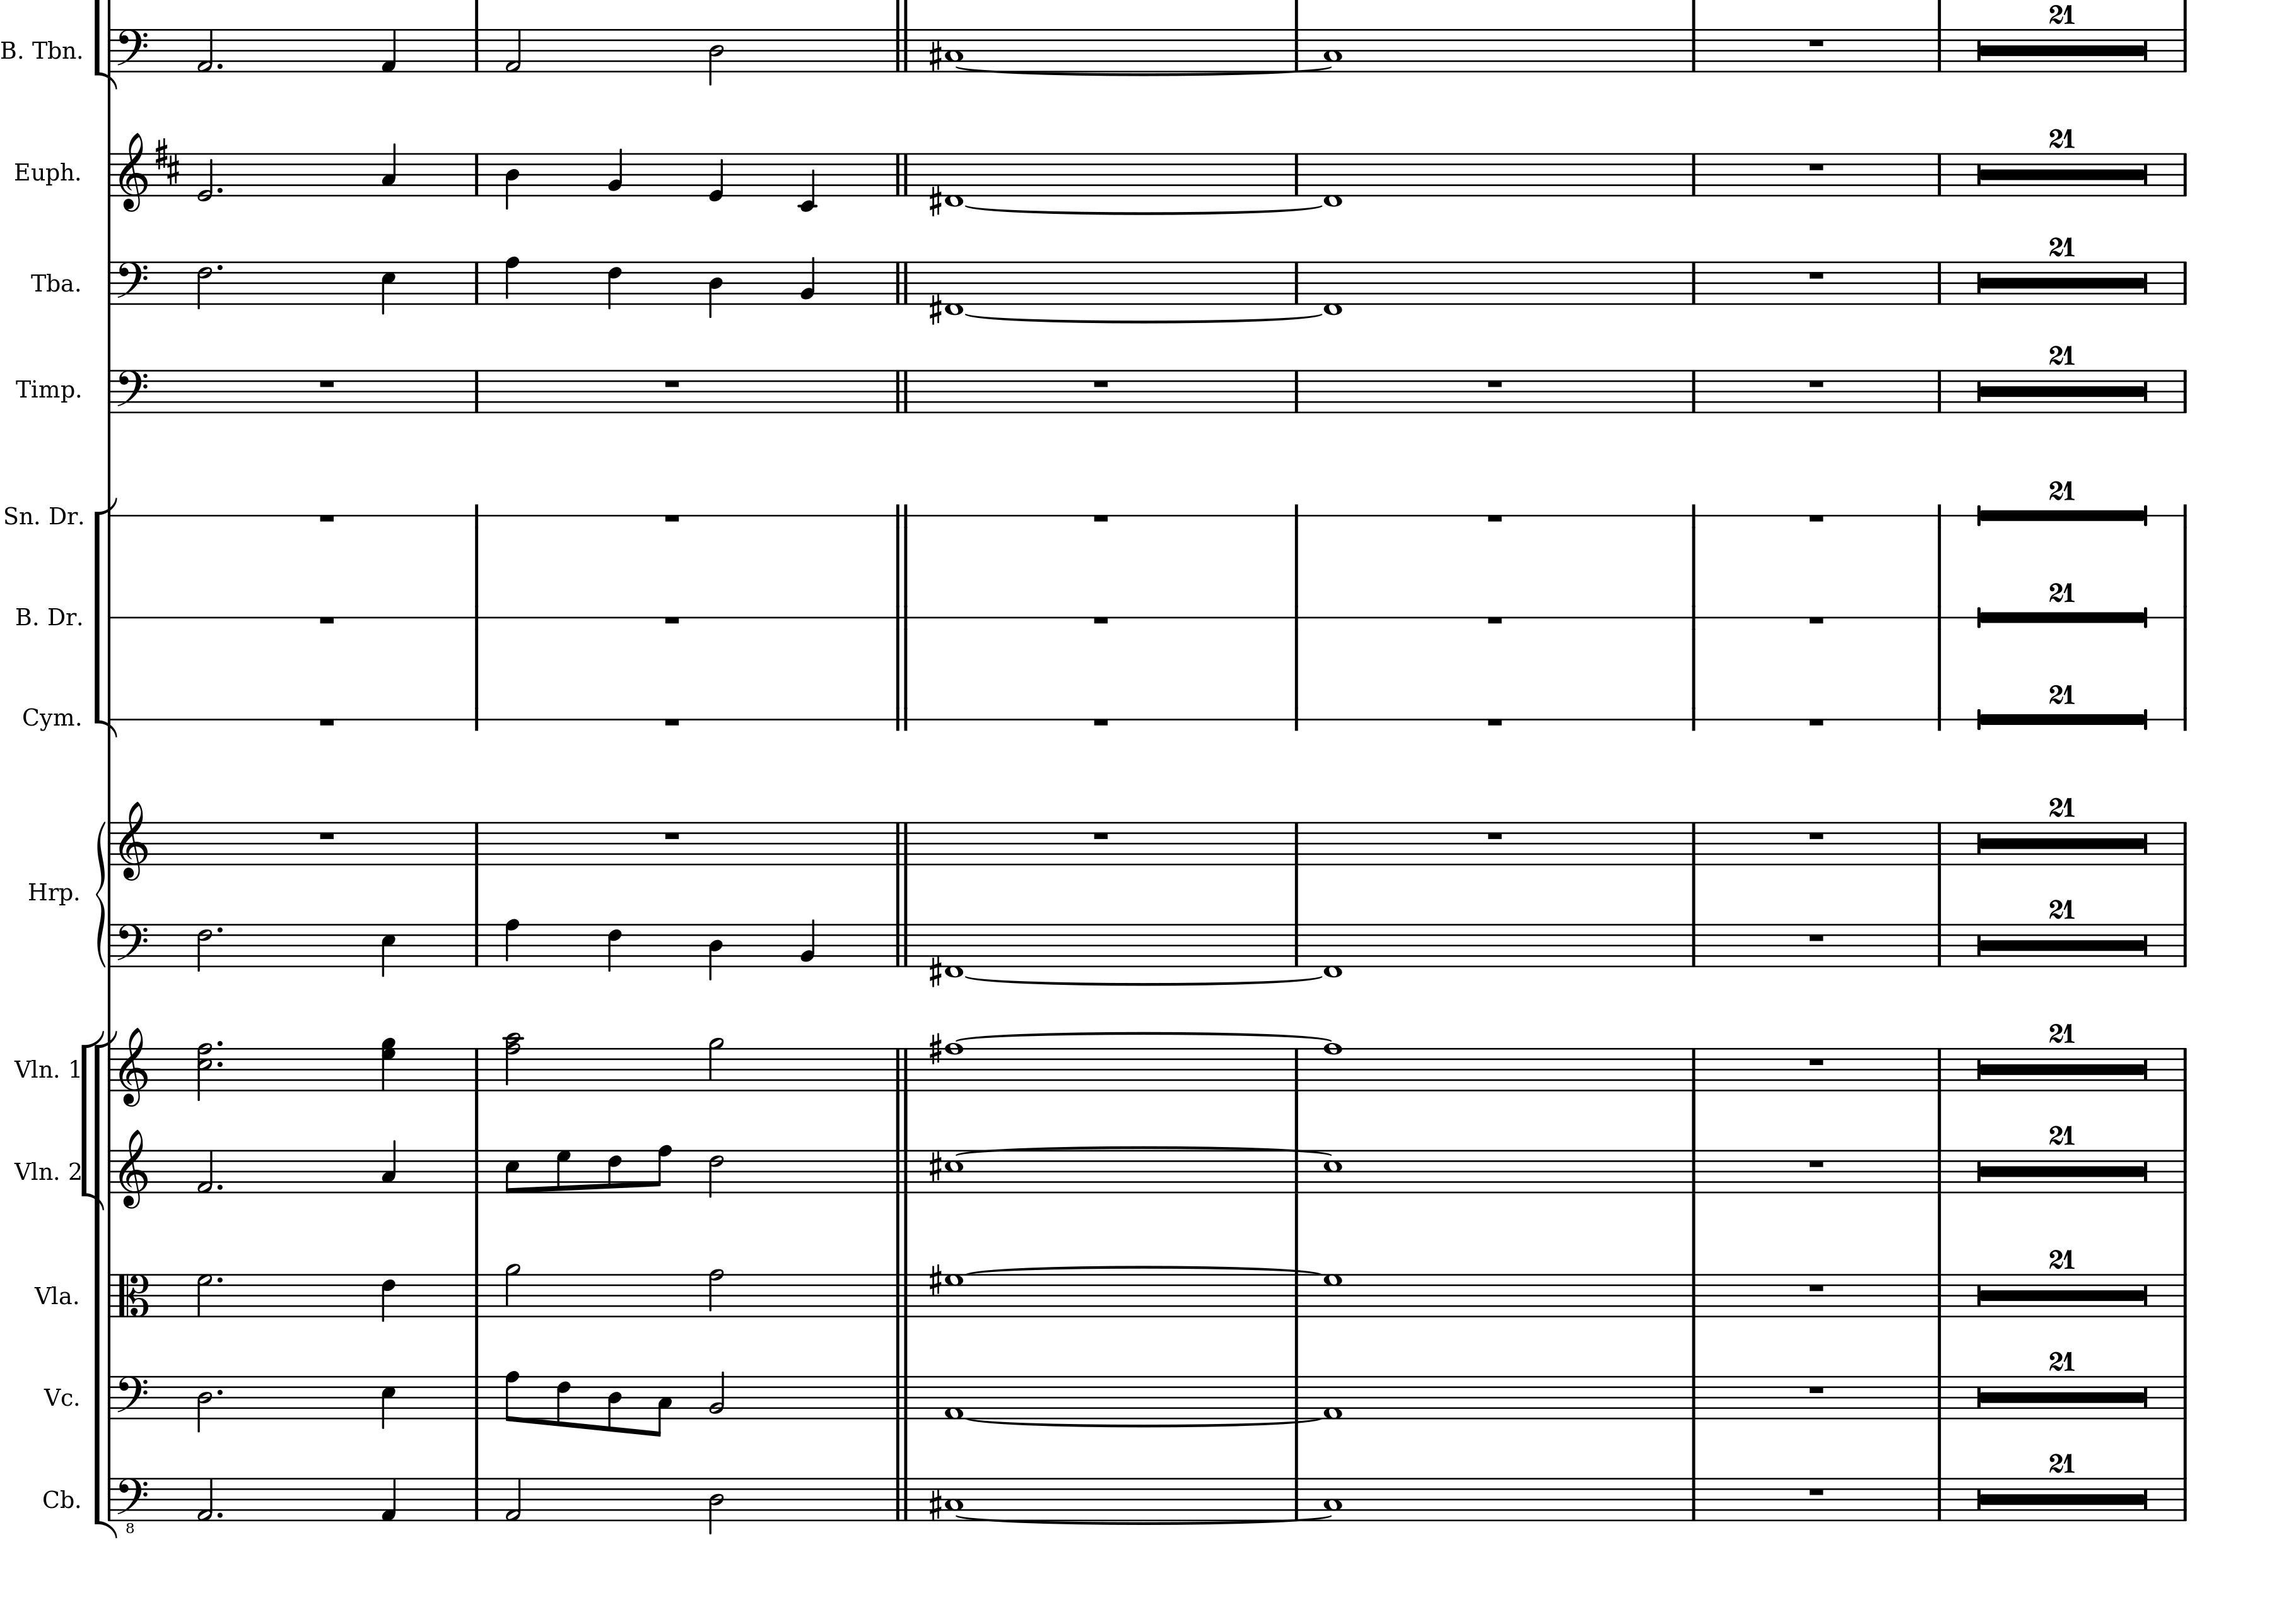1_-1: (942, 921, 963, 979), (943, 149, 963, 207), (1323, 149, 1342, 207), (1323, 921, 1342, 977), (943, 260, 963, 315), (1323, 260, 1342, 315)
1_1: (943, 1374, 964, 1420), (1323, 1374, 1342, 1420)
1_3: (943, 26, 963, 72), (1323, 26, 1342, 72), (943, 1475, 963, 1520), (1323, 1475, 1342, 1520)
1_5: (943, 1148, 963, 1193), (1323, 1148, 1342, 1193)
1_7: (943, 1272, 964, 1318), (1323, 1272, 1342, 1318)
1_8: (943, 1040, 964, 1091), (1321, 1040, 1342, 1091)
2_0: (195, 149, 213, 202)
2_1: (195, 1148, 214, 1195), (195, 26, 214, 72), (504, 26, 522, 72), (195, 1476, 213, 1522), (504, 1476, 522, 1522)
2_2: (708, 1369, 726, 1420)
2_4: (195, 1374, 213, 1432), (708, 1476, 724, 1534), (708, 28, 724, 84)
2_5_8: (197, 1042, 214, 1102)
2_6: (197, 923, 213, 974), (708, 1148, 724, 1199), (197, 260, 213, 309)
2_7: (195, 1272, 214, 1316)
2_7_9: (381, 1037, 397, 1093)
2_8: (708, 1265, 726, 1318)
2_8_10: (501, 1032, 525, 1093)
2_9: (708, 1035, 726, 1091), (504, 1262, 522, 1316)
4_-2: (798, 149, 817, 213)
4_0: (708, 151, 724, 202)
4_1: (379, 1476, 397, 1522), (379, 28, 395, 72)
4_2: (799, 255, 817, 304), (608, 146, 624, 197), (799, 917, 815, 967)
4_3: (381, 141, 397, 197), (381, 1139, 397, 1193)
4_4: (504, 151, 520, 211), (708, 921, 724, 981), (708, 260, 724, 318)
4_5: (379, 260, 395, 316), (381, 921, 395, 977), (381, 1373, 395, 1429)
4_6: (606, 921, 622, 972), (606, 260, 622, 309), (381, 1272, 395, 1322)
4_8: (504, 255, 520, 304), (504, 917, 520, 967)
8_3: (652, 1373, 673, 1438)
8_4: (606, 1374, 622, 1432)
8_5: (504, 1148, 520, 1193)
8_6: (555, 1373, 571, 1427), (606, 1148, 622, 1193)
8_7: (555, 1148, 573, 1193)
8_8: (650, 1142, 671, 1193), (504, 1369, 520, 1422)
Brace: (95, 819, 107, 967)
Bracke: (95, 1032, 123, 1550), (93, 497, 118, 736), (79, 1039, 93, 1202)
Bsn: (30, 271, 76, 294)
Cb: (40, 1485, 76, 1512)
Cclef: (116, 1272, 149, 1318)
D_S: (153, 135, 179, 185)
Double_barline: (892, 367, 912, 413), (892, 28, 912, 72), (892, 151, 912, 195), (892, 1148, 912, 1192), (892, 1374, 912, 1418), (892, 1476, 912, 1520), (892, 821, 912, 863), (892, 923, 912, 965), (892, 1272, 912, 1315), (892, 260, 910, 304)
Euph: (12, 158, 79, 190)
Fclef: (116, 260, 149, 306), (116, 921, 148, 968), (116, 1373, 148, 1420), (116, 26, 148, 72), (116, 367, 148, 413)
Final_barline: (892, 1046, 912, 1090)
Gclef: (118, 1127, 149, 1209), (118, 130, 148, 213), (118, 800, 148, 881), (118, 1026, 148, 1107)
Hrp: (25, 879, 74, 909)
Lower_Fclef: (116, 1475, 148, 1533)
Rests1: (316, 613, 337, 629), (1091, 613, 1112, 629), (1089, 511, 1112, 526), (661, 715, 683, 729), (1089, 715, 1112, 729), (316, 511, 337, 526), (662, 511, 683, 526), (1484, 511, 1505, 526), (1806, 511, 1827, 526), (662, 613, 683, 627), (1484, 613, 1505, 627), (1806, 613, 1827, 627), (316, 715, 337, 729), (1484, 715, 1505, 729), (1806, 715, 1827, 729), (1806, 37, 1827, 49), (1806, 160, 1827, 172), (316, 830, 337, 842), (1484, 830, 1505, 842), (1806, 830, 1827, 842), (1091, 376, 1110, 388), (662, 830, 682, 842), (1091, 830, 1110, 842), (1806, 1156, 1825, 1169), (1806, 1281, 1825, 1294), (316, 378, 337, 388), (1484, 378, 1505, 388), (1806, 1485, 1827, 1496), (662, 378, 682, 388), (1806, 378, 1825, 388), (1806, 932, 1825, 942), (1806, 1056, 1825, 1067), (1806, 1383, 1825, 1394), (1808, 269, 1825, 279)
Sharp: (926, 1148, 942, 1183), (928, 37, 942, 72), (928, 1262, 942, 1297), (928, 1485, 942, 1520), (928, 183, 942, 216), (928, 954, 942, 988), (928, 1032, 942, 1065), (928, 294, 942, 325)
Single_barline: (1685, 1272, 1700, 1316), (1685, 1149, 1700, 1192), (1686, 28, 1700, 72), (1932, 28, 1946, 72), (2177, 30, 2191, 72), (2177, 153, 2191, 195), (1289, 262, 1303, 304), (2177, 262, 2191, 304), (1289, 369, 1303, 411), (1932, 369, 1946, 411), (2177, 369, 2191, 411), (471, 821, 485, 863), (1289, 821, 1303, 863), (2177, 821, 2191, 863), (1932, 823, 1946, 865), (1932, 924, 1946, 967), (2177, 924, 2191, 967), (1686, 1048, 1700, 1090), (1932, 1048, 1946, 1090), (2177, 1048, 2191, 1090), (1289, 1048, 1303, 1090), (1932, 1149, 1946, 1192), (2177, 1149, 2191, 1192), (1289, 1272, 1303, 1315), (1932, 1272, 1946, 1315), (2177, 1274, 2191, 1316), (1289, 1376, 1303, 1418), (1932, 1376, 1946, 1418), (1686, 1376, 1700, 1418), (2177, 1376, 2191, 1418), (1289, 1476, 1303, 1519), (1686, 1478, 1700, 1520), (1932, 1478, 1946, 1520), (2177, 1478, 2191, 1520), (1289, 28, 1303, 69), (1686, 823, 1700, 863), (1289, 924, 1303, 965), (1686, 924, 1700, 965), (1289, 1151, 1303, 1192), (104, 1044, 116, 1090), (471, 28, 483, 72), (104, 1272, 116, 1316), (471, 1476, 483, 1520), (1289, 153, 1302, 195), (1686, 153, 1699, 195), (471, 153, 483, 195), (1934, 153, 1946, 195), (104, 262, 116, 304), (1686, 262, 1699, 304), (1934, 262, 1946, 304), (104, 369, 116, 411), (471, 369, 483, 411), (1686, 369, 1699, 411), (471, 1048, 483, 1090), (104, 1149, 116, 1192), (471, 1149, 483, 1192), (471, 1272, 483, 1315), (104, 1376, 116, 1418), (471, 1376, 483, 1418), (104, 1478, 116, 1520), (471, 262, 483, 302), (471, 924, 483, 965), (105, 28, 116, 72), (105, 153, 114, 195), (105, 821, 114, 863), (105, 923, 114, 965)
Tbn: (32, 40, 76, 62)
Timp: (16, 378, 76, 404)
Vc: (42, 1387, 74, 1408)
Vla: (35, 1281, 74, 1309)
Vln: (14, 1156, 54, 1185), (14, 1055, 54, 1081)
dot: (214, 60, 223, 69), (214, 185, 223, 193), (214, 262, 223, 271), (214, 924, 223, 933), (214, 1039, 223, 1048), (214, 1058, 223, 1067), (214, 1181, 223, 1190), (214, 1274, 223, 1283), (214, 1387, 223, 1396), (214, 1510, 223, 1519)
